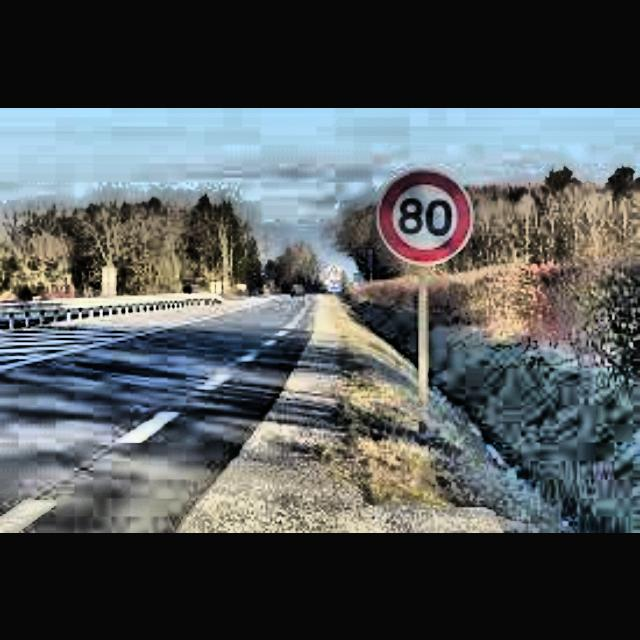speed_80: (379, 171, 473, 263)
